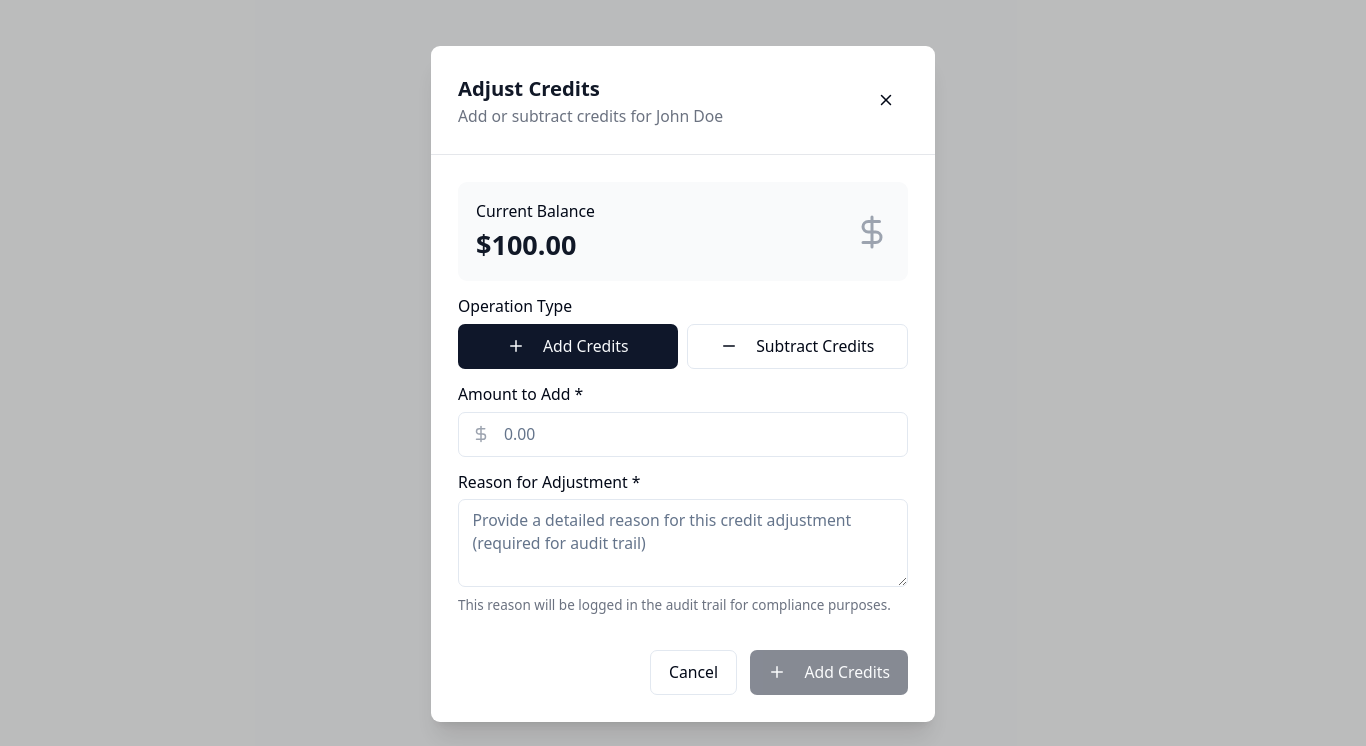
Scenario: CreditAdjustModal › shows warning for subtraction
Note: Switch to subtract mode
Click the button "Subtract Credits".
click(797, 346)  # box 686,324 -> 908,369
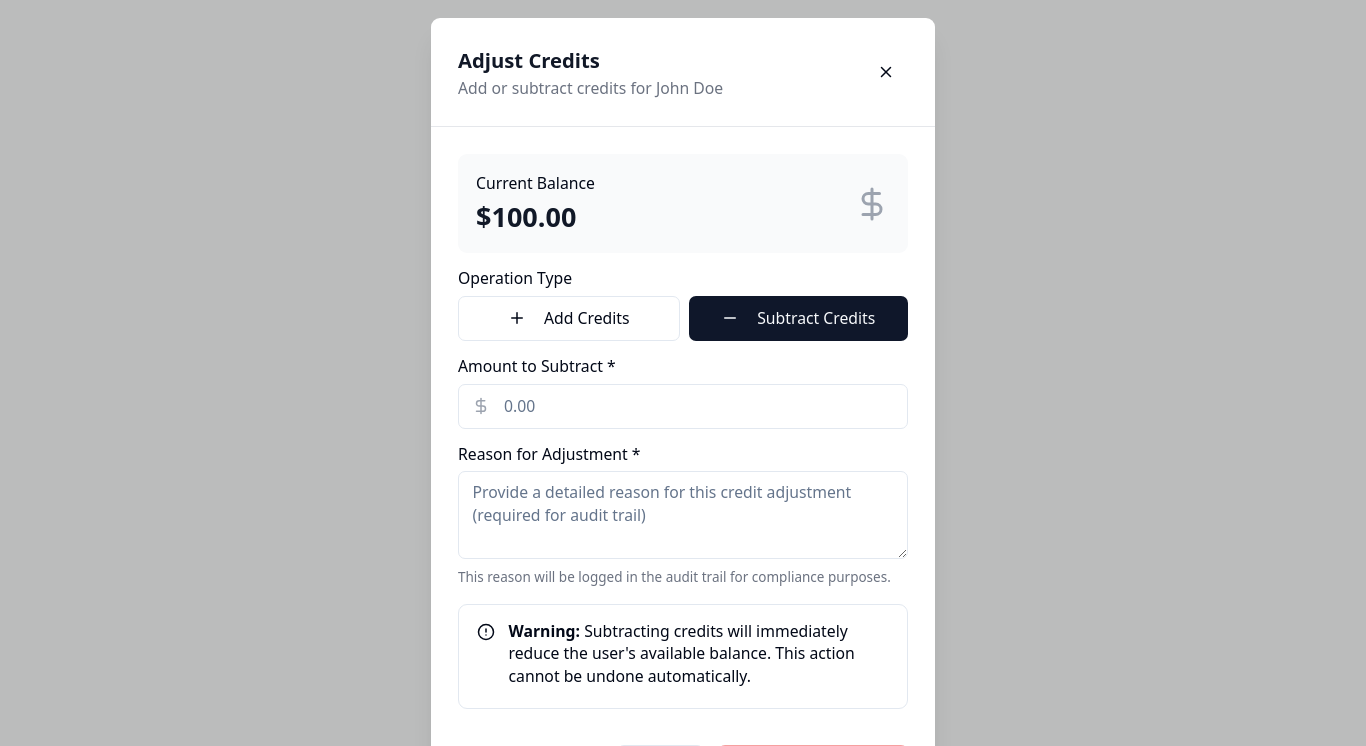
Check: the text "Warning:" is shown, box 508,620 -> 580,642
Check: the text "Subtracting credits will immediately reduce" is shown, box 508,620 -> 855,687
